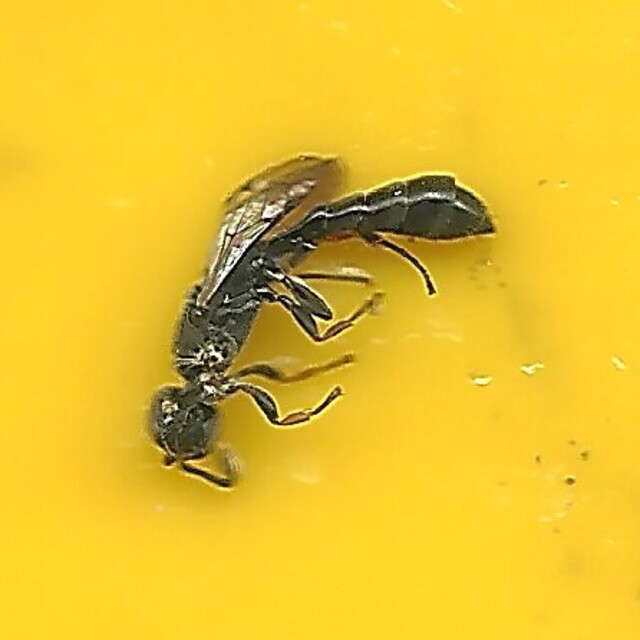Hymenoptera: (143, 151, 497, 489)
